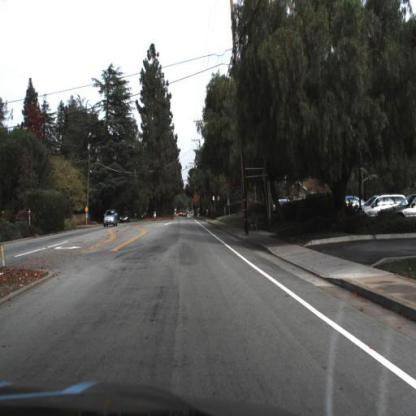car: (359, 191, 410, 220), (390, 193, 416, 223), (101, 208, 117, 231), (104, 211, 119, 229), (119, 210, 133, 228)
